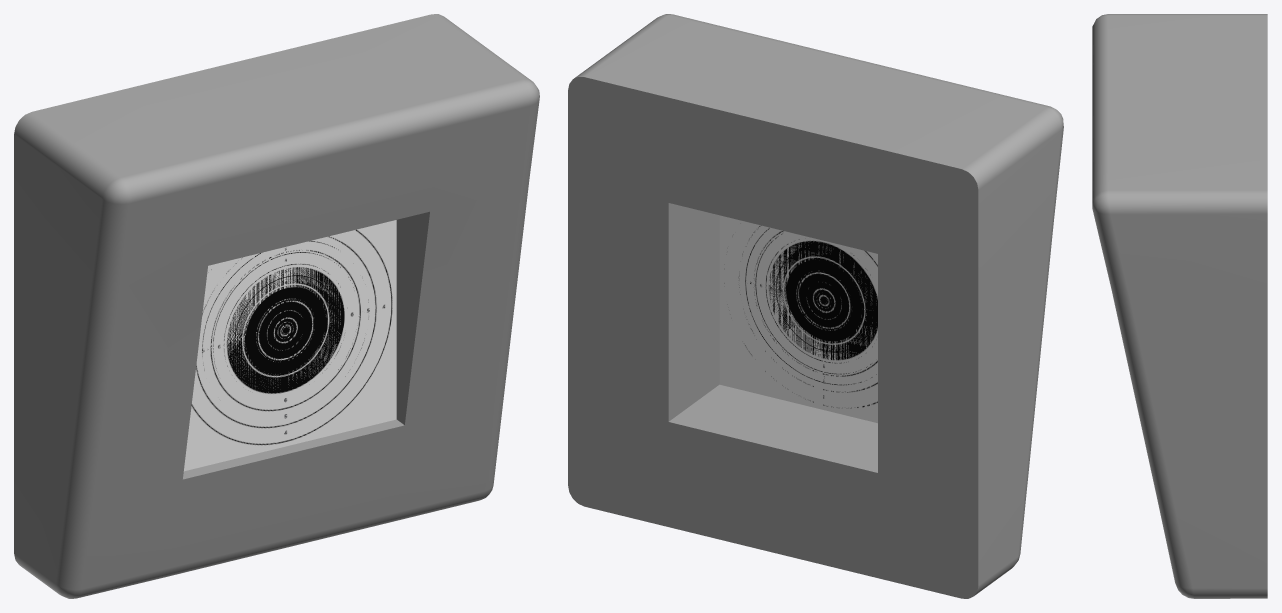
Rendered from Target_Pistol.fbx.
3 renders of one model, left to right at view 1: azimuth 30°, elevation 25°; view 2: azimuth 150°, elevation 25°; view 3: azimuth 270°, elevation 25°, orthographic. The views are drawn at different scales.
Parts seen in each view (by area): view 1: Target_box, Template2_8x, Template2_2x; view 2: Target_box, Template2_2x, Template2_8x; view 3: Target_box.
Part boxes in pixels (x1,y1,x2,y2): Target_box: (14, 14, 539, 598); Template2_8x: (184, 220, 396, 471); Template2_2x: (192, 228, 396, 415); Target_box: (568, 14, 1063, 598); Template2_2x: (719, 215, 877, 422); Template2_8x: (723, 223, 877, 423); Target_box: (1092, 14, 1267, 598).
Bounding box in the file's own units: 50 × 50 × 19.56.
Materials: 3 (2 with a texture image).
